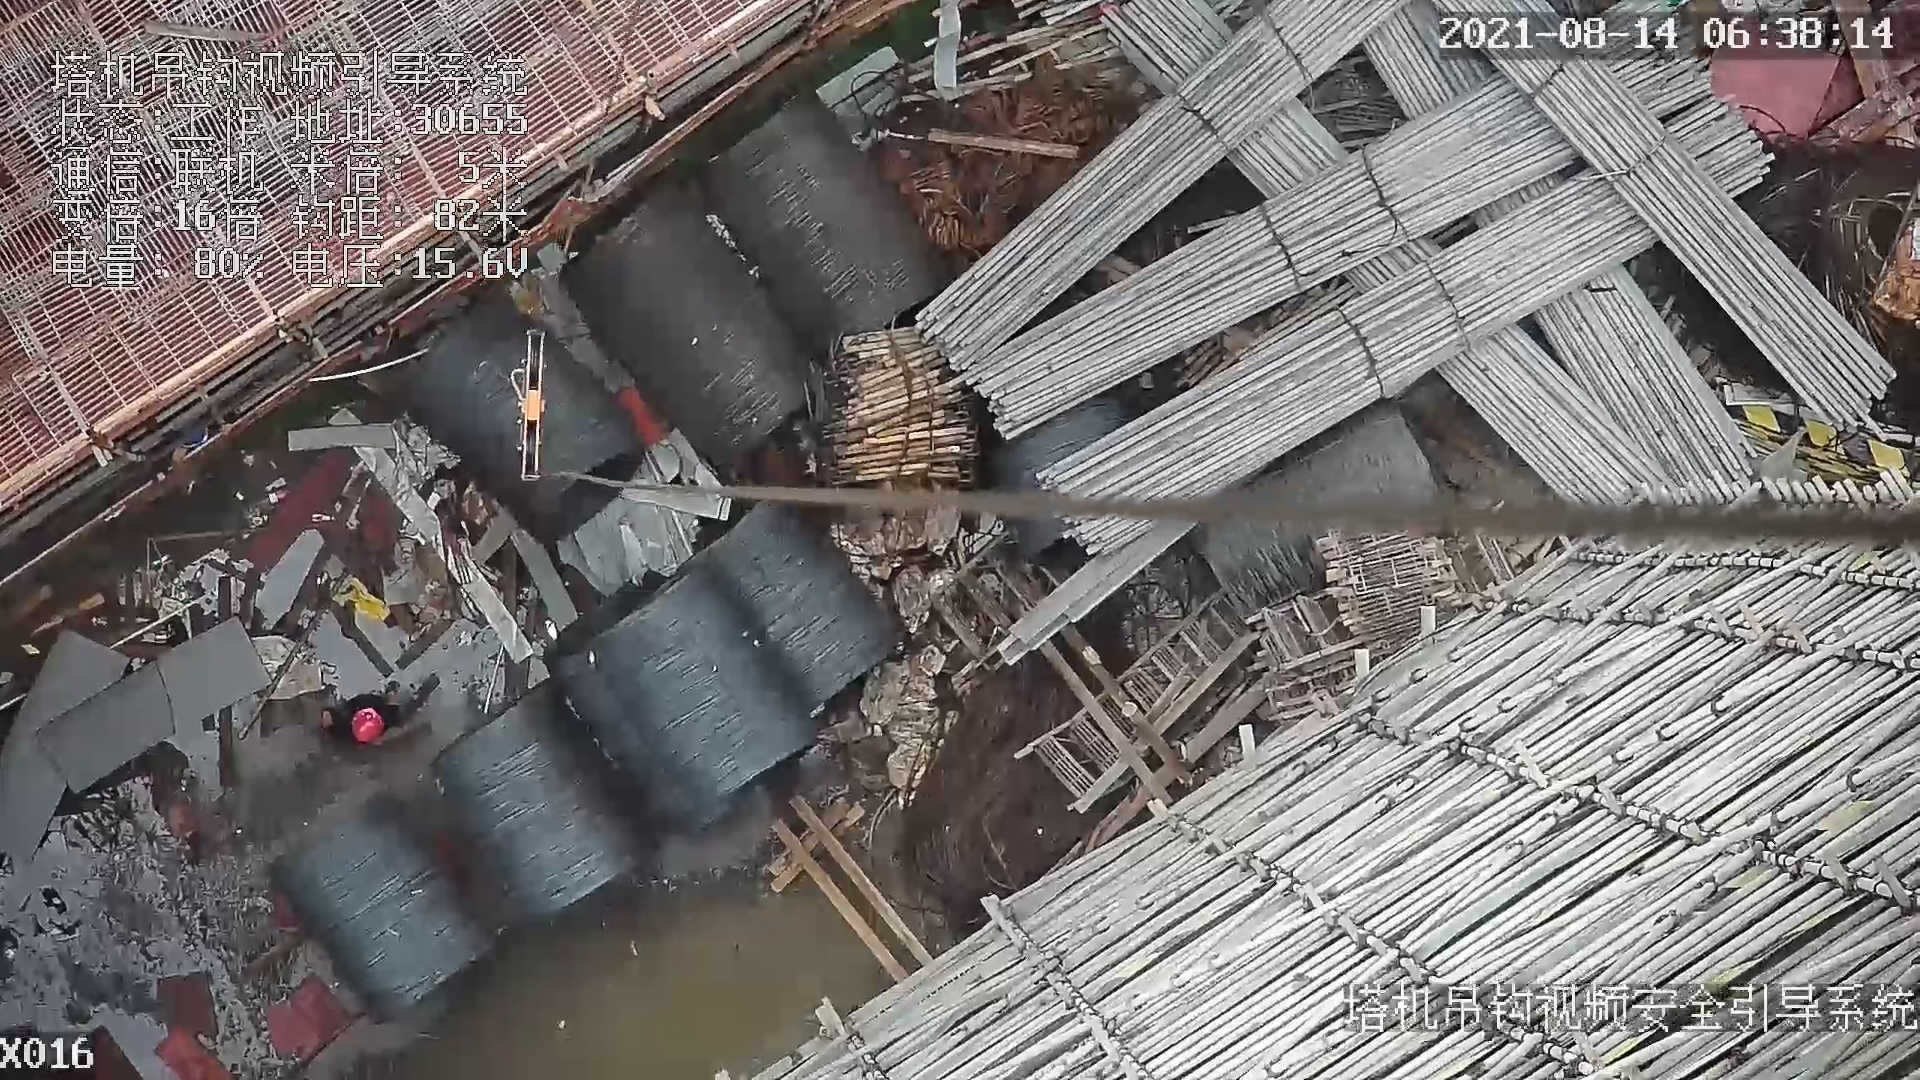helmet: (338, 706, 400, 750)
hook: (505, 326, 553, 485)
person: (309, 681, 424, 753)
scaffold: (959, 21, 1826, 495), (812, 318, 979, 487)
